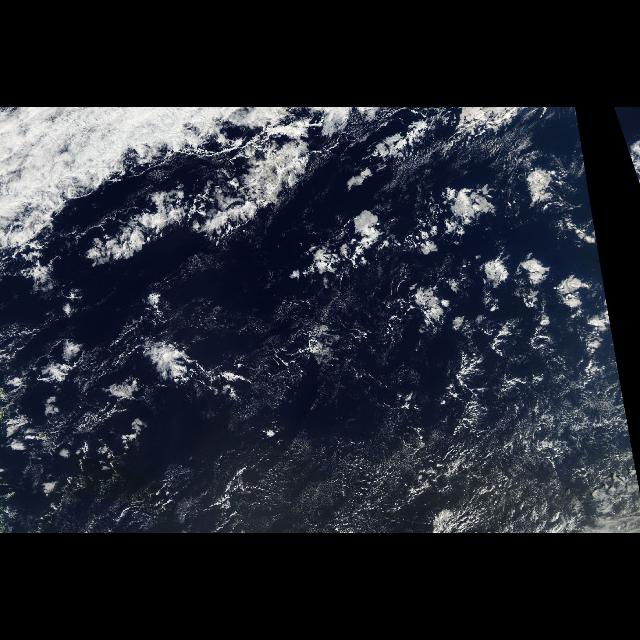Flower: (337, 150, 615, 362)
Sugar: (223, 372, 631, 534)
